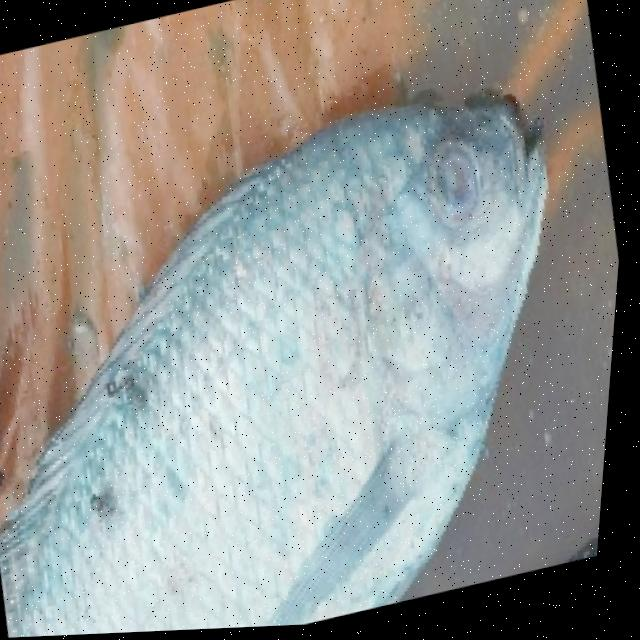Non-Fresh: (0, 95, 633, 640)
